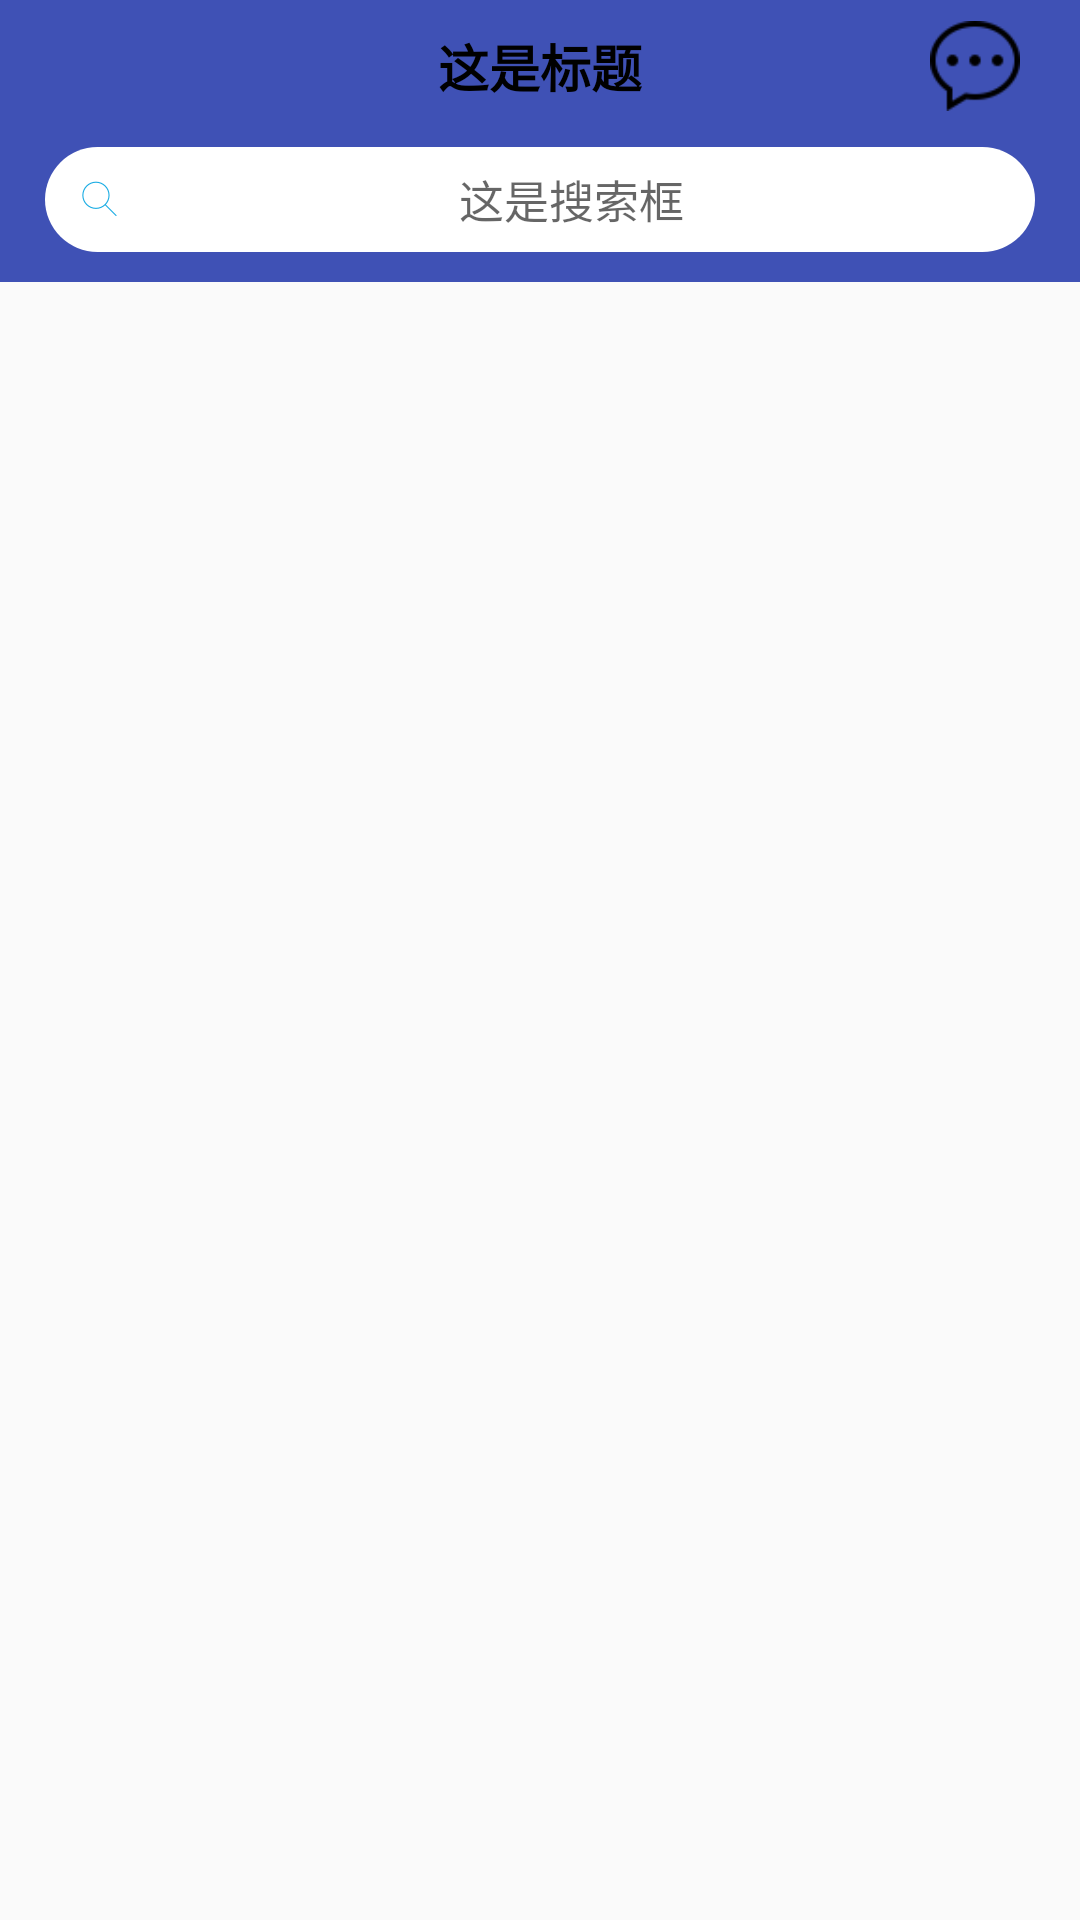

Icon click points for this 1080w x 1920h phone screenshot, format [x,y]:
message: [975,66]
search: [99,198]
